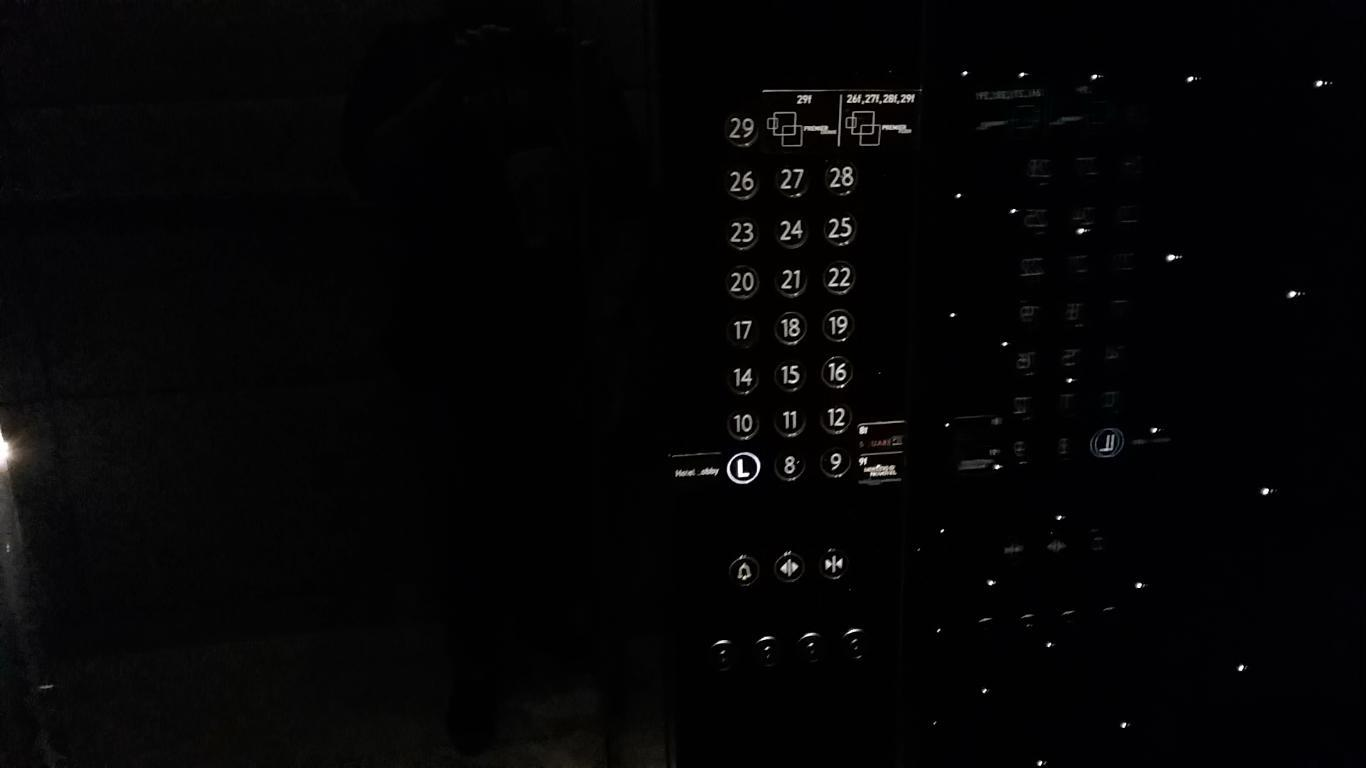10: (722, 403, 762, 444)
11: (770, 398, 810, 439)
12: (816, 396, 856, 437)
14: (723, 357, 763, 398)
15: (770, 353, 810, 394)
16: (816, 350, 856, 391)
17: (721, 309, 761, 350)
18: (769, 305, 809, 346)
19: (816, 301, 856, 342)
20: (720, 260, 760, 301)
21: (770, 258, 810, 299)
22: (818, 255, 858, 296)
23: (721, 208, 764, 252)
24: (772, 209, 815, 253)
25: (819, 205, 862, 249)
26: (721, 158, 764, 202)
27: (772, 155, 815, 199)
28: (818, 153, 861, 197)
29: (721, 107, 764, 151)
8: (769, 443, 809, 484)
9: (813, 439, 853, 480)
alarm: (726, 549, 761, 588)
close: (815, 542, 850, 581)
open: (772, 545, 807, 584)
unknown: (722, 446, 762, 487)
